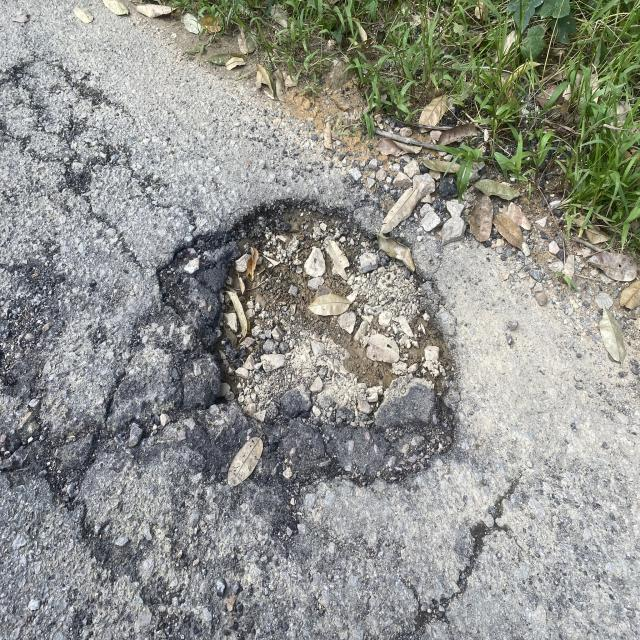Pothole: (158, 158, 478, 558)
